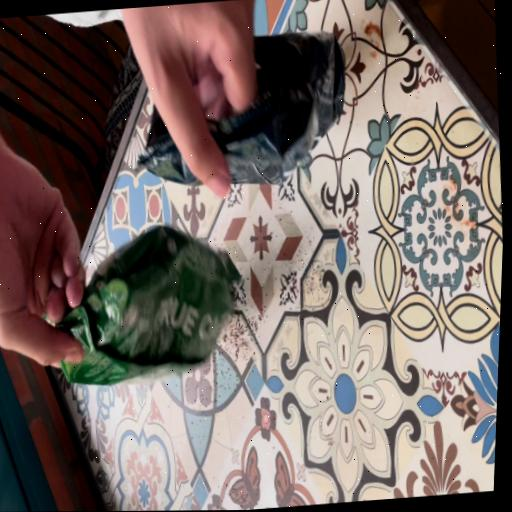cafe_hat: (211, 32, 345, 184), (139, 105, 198, 184)
cafe_xay: (57, 226, 239, 385)
